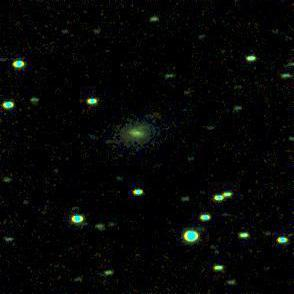star: (91, 128, 121, 158)
